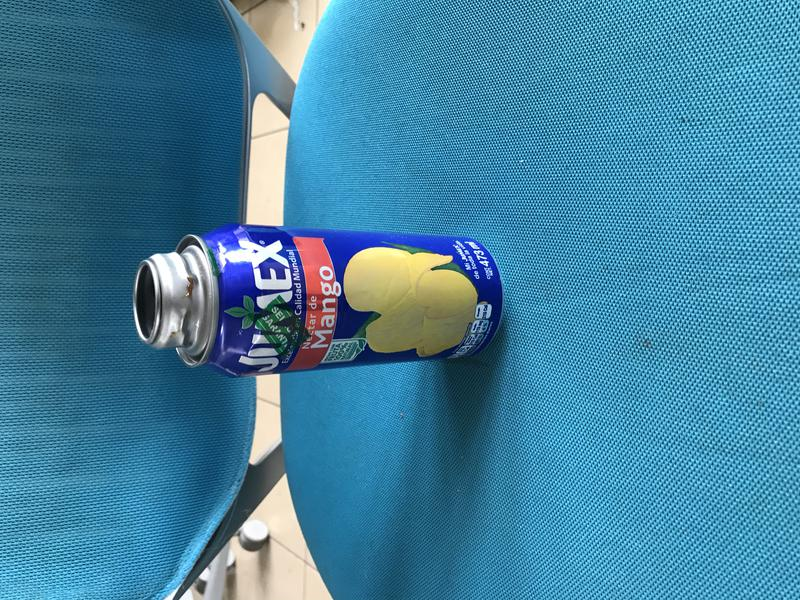jumex_botella: (131, 224, 505, 379)
